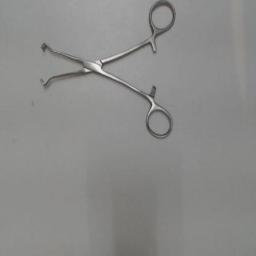Babcock Tissue Forceps: (38, 2, 178, 144)
